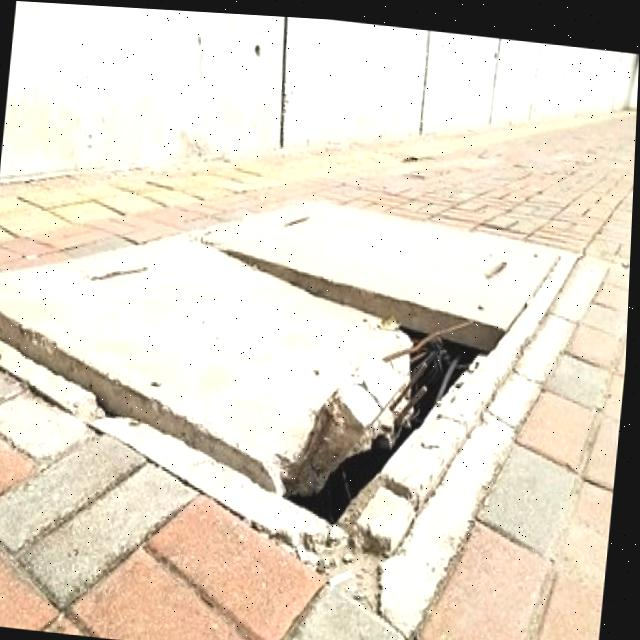manhole: (0, 182, 523, 556)
